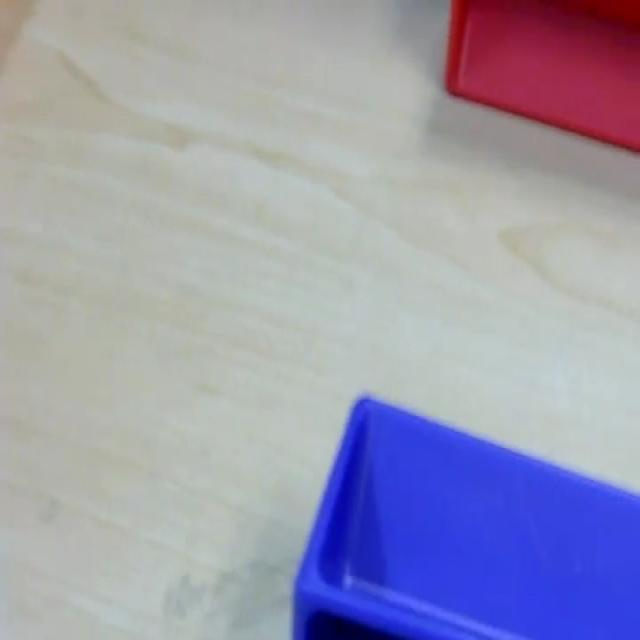blue_block: (291, 391, 638, 637)
red_block: (442, 0, 638, 153)
